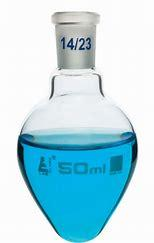Pear shaped flask: (2, 6, 140, 240)
